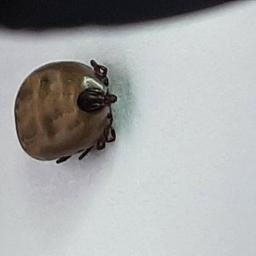Rhipicephalus sanguineus: (13, 59, 118, 164)
